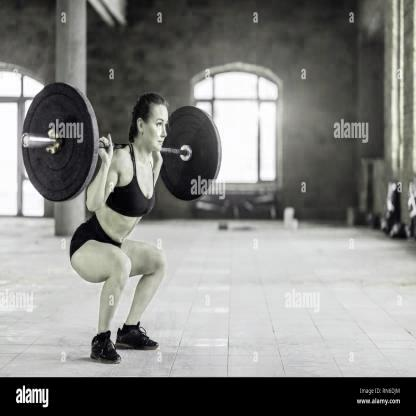Barbell: (22, 131, 32, 148)
